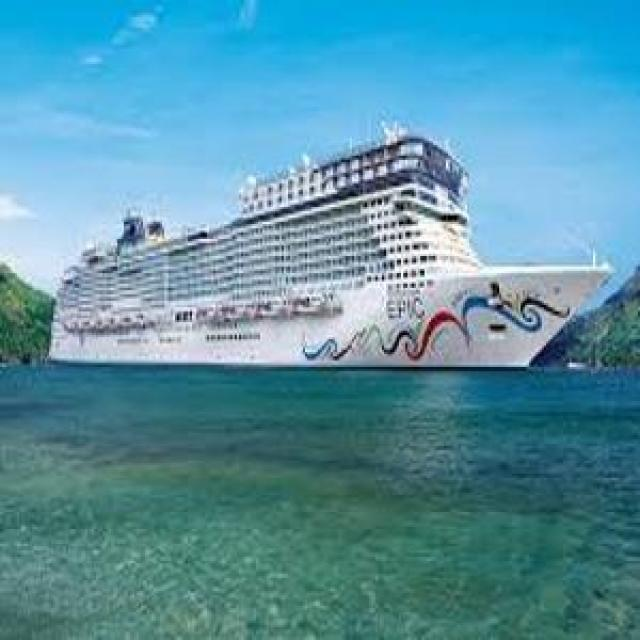passenger ship: (36, 136, 606, 370)
